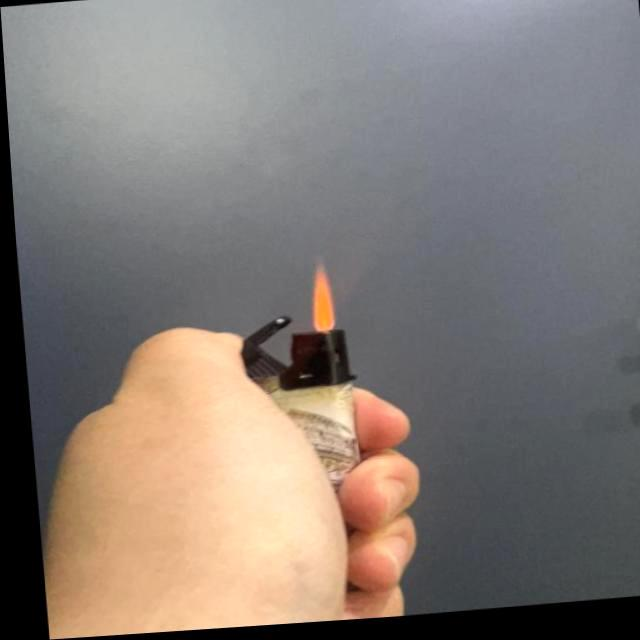fire: (302, 263, 332, 333)
